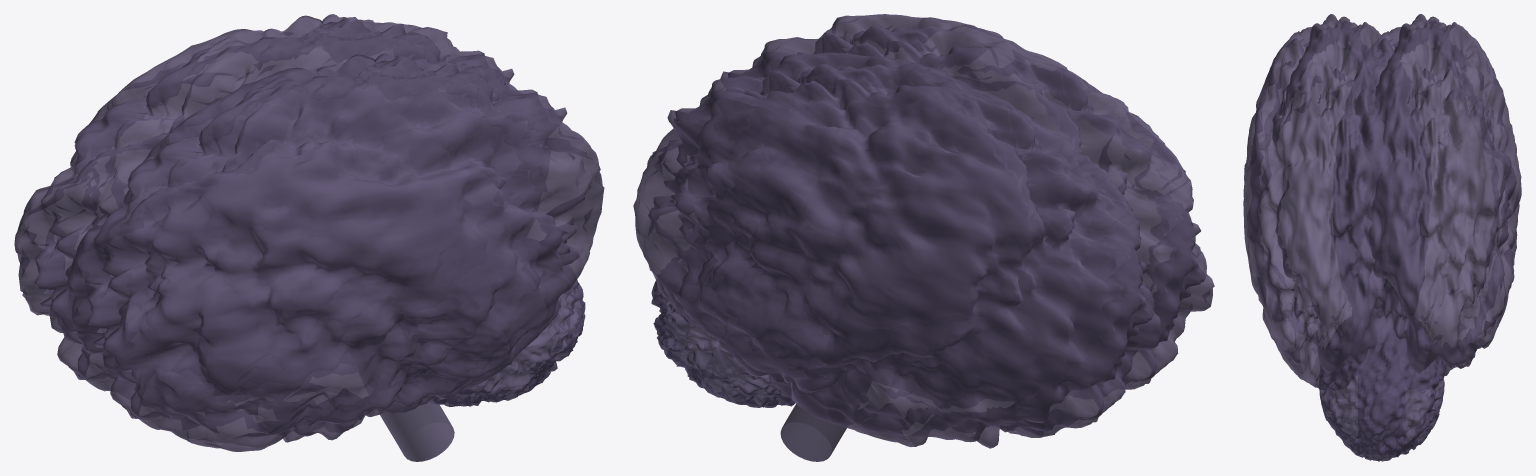
File: brain.glb
3 renders of one model, left to right at view 1: azimuth 30°, elevation 25°; view 2: azimuth 150°, elevation 25°; view 3: azimuth 270°, elevation 25°, orthographic. The views are drawn at different scales.
Visible parts, largest first — view 1: hemiL, hemiR, cerebellum, brainstem; view 2: hemiR, hemiL, cerebellum, brainstem; view 3: hemiR, hemiL, cerebellum, brainstem.
Boxes of the visible parts, left/top/right/bottom form: hemiL: left=67, top=53, right=604, bottom=451; hemiR: left=14, top=14, right=518, bottom=396; cerebellum: left=398, top=240, right=585, bottom=406; brainstem: left=350, top=307, right=454, bottom=461; hemiR: left=633, top=52, right=1161, bottom=448; hemiL: left=718, top=14, right=1214, bottom=400; cerebellum: left=651, top=241, right=834, bottom=407; brainstem: left=780, top=335, right=880, bottom=461; hemiR: left=1332, top=14, right=1521, bottom=391; hemiL: left=1243, top=14, right=1432, bottom=389; cerebellum: left=1319, top=315, right=1444, bottom=461; brainstem: left=1361, top=364, right=1402, bottom=454.
Bounding box in the file's own units: 3.44 × 2.72 × 1.87.
